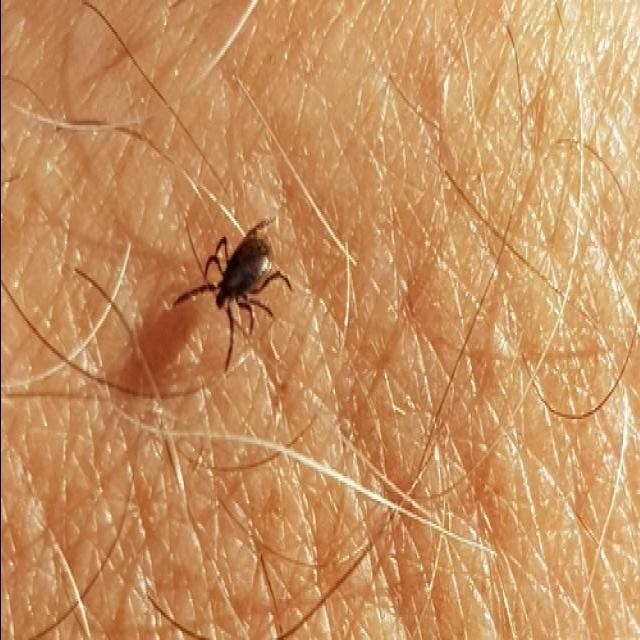Ixodes Ricinus-M: (169, 221, 284, 367)
